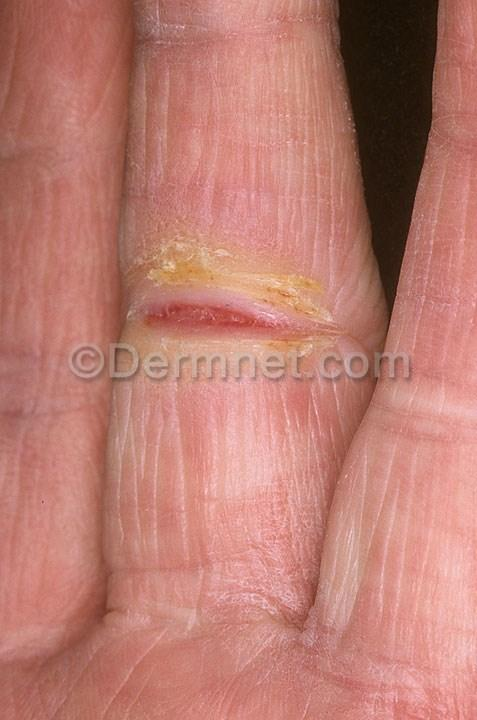Eczema: (92, 247, 373, 379)
